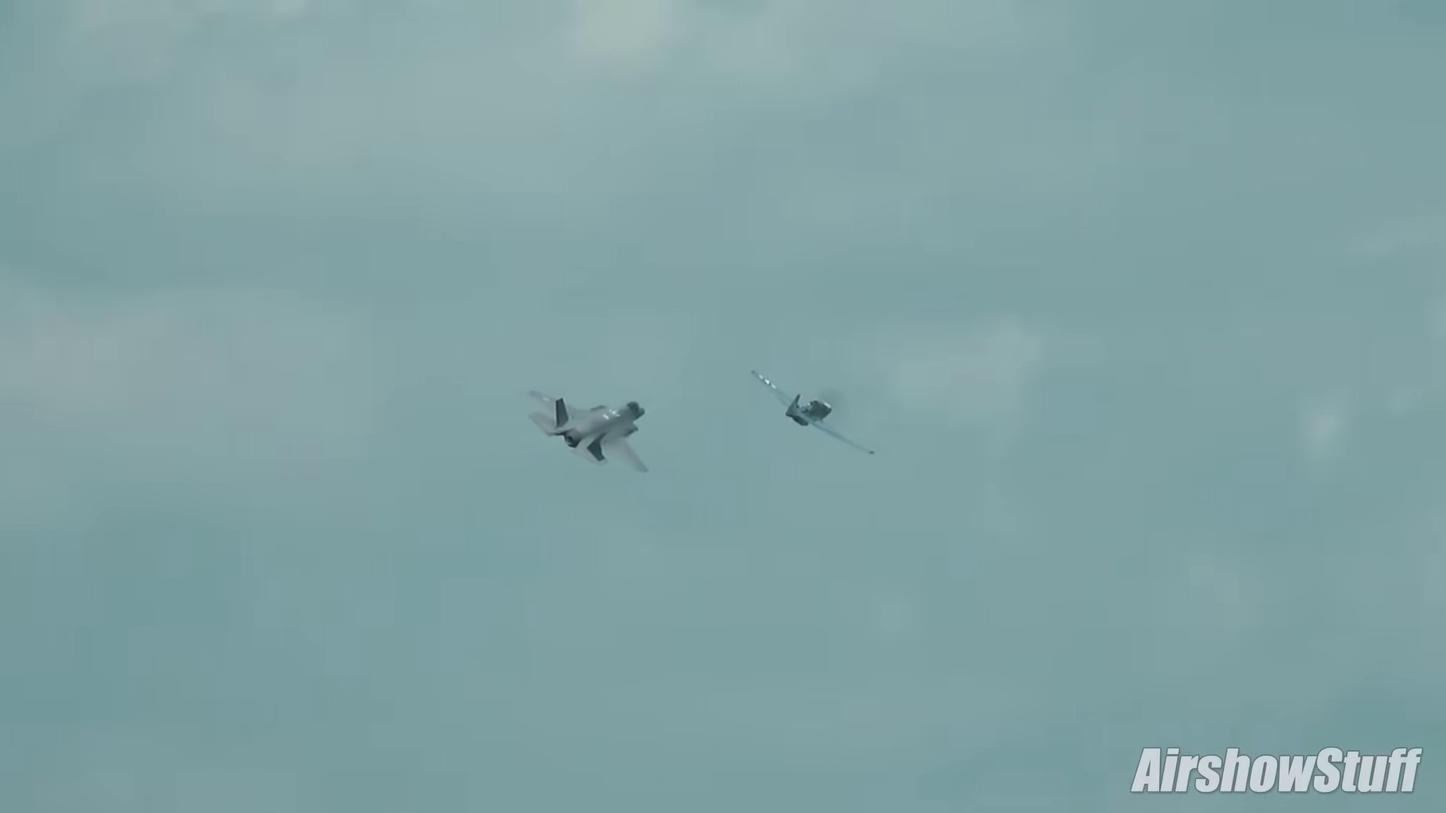F35: (524, 384, 655, 476)
